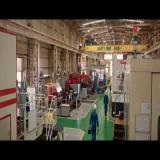Helmet: (94, 104, 96, 110), (105, 90, 107, 94)
